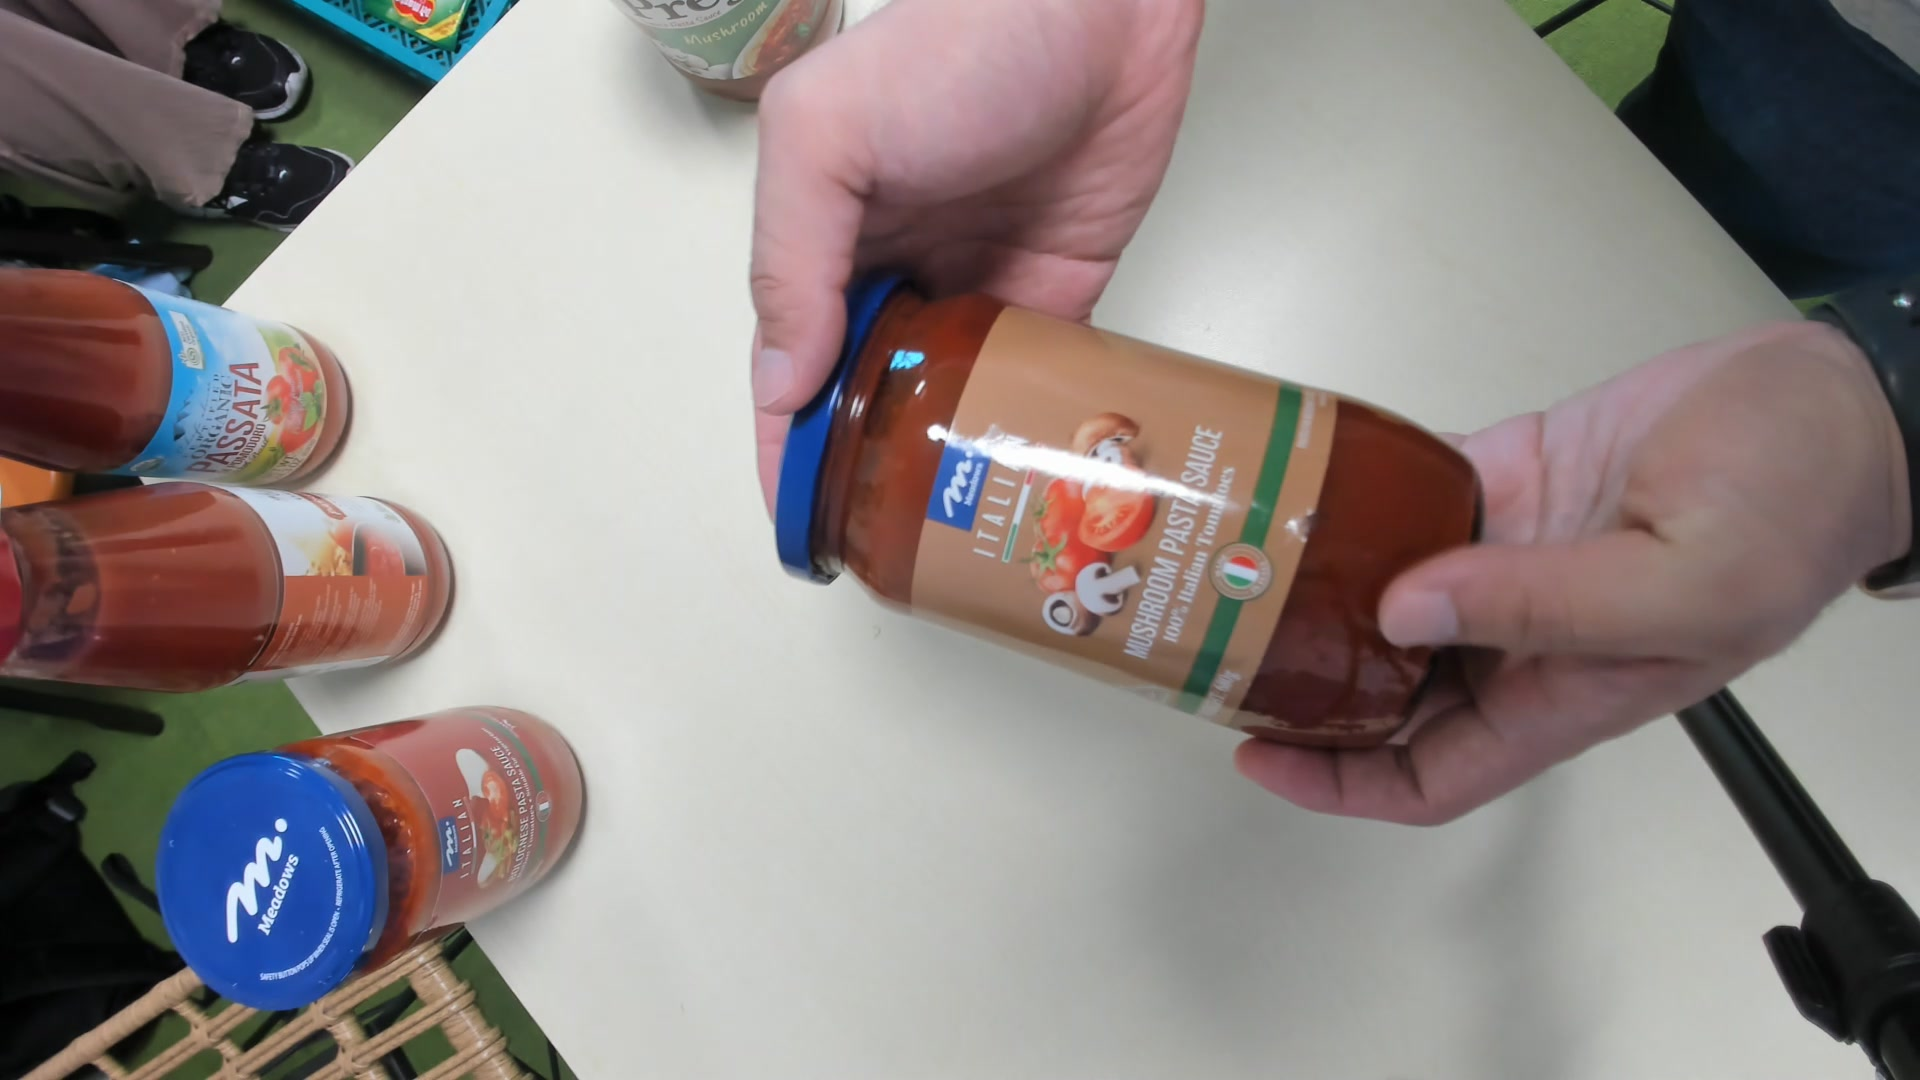PastaSauce_600-699g_Halal_NonHealthy: (769, 276, 1484, 746)
